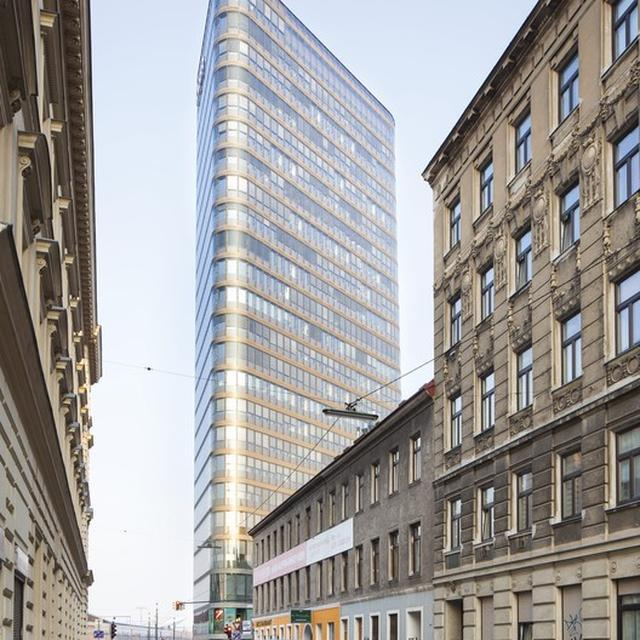building: (427, 0, 640, 640), (192, 0, 402, 623), (0, 0, 105, 640), (248, 385, 439, 640)
